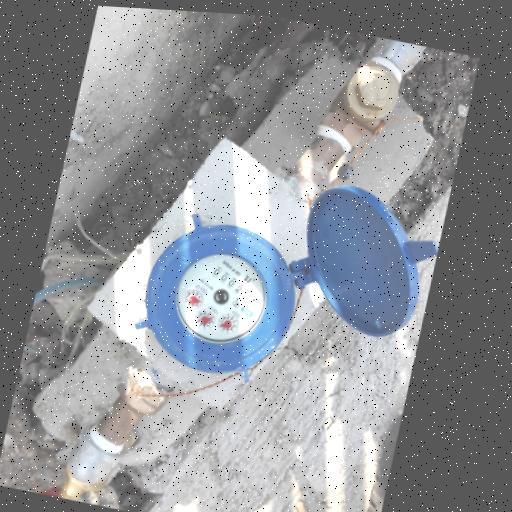0: (239, 286, 254, 303), (209, 264, 224, 280), (217, 270, 232, 286), (223, 276, 237, 290)
2: (230, 279, 246, 296)
border_water_meter_number: (203, 260, 262, 307)
